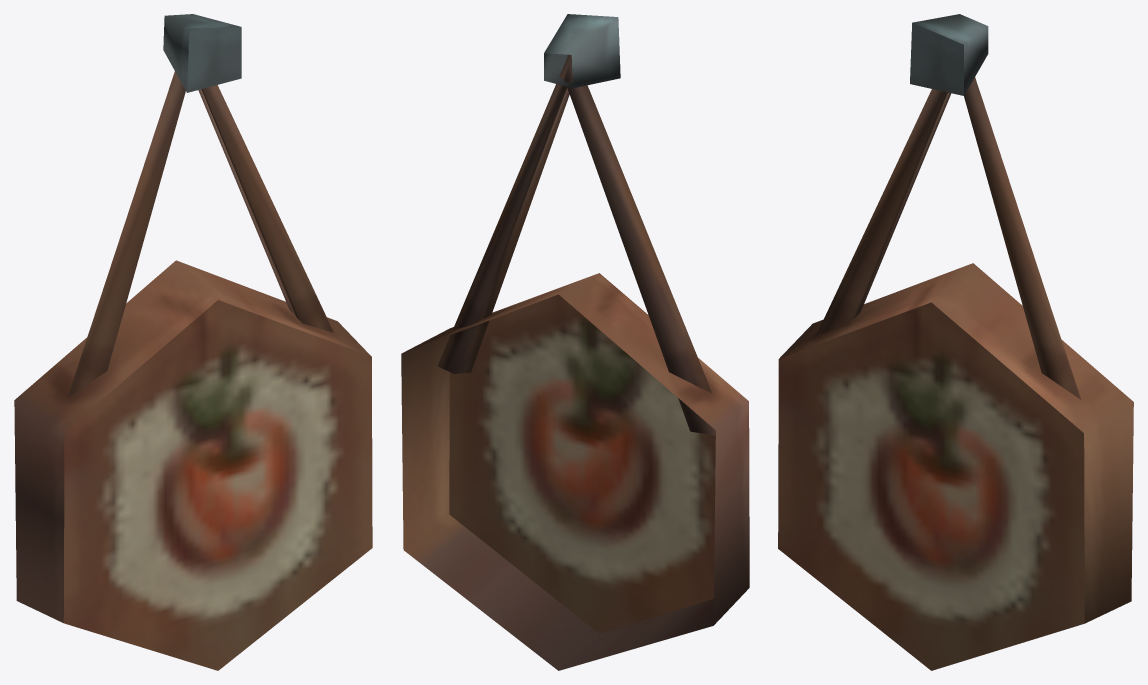
File: furnitureSet_roundPicture_2.FBX
3 renders of one model, left to right at view 1: azimuth 30°, elevation 25°; view 2: azimuth 150°, elevation 25°; view 3: azimuth 330°, elevation 25°, orthographic. The views are drawn at different scales.
Parts seen in each view (by area): view 1: furnitureSet_roundPicture_2; view 2: furnitureSet_roundPicture_2; view 3: furnitureSet_roundPicture_2.
Boxes of the visible parts, box(x1,y1,x2,y2) form: furnitureSet_roundPicture_2: box(14, 14, 372, 670); furnitureSet_roundPicture_2: box(401, 14, 749, 670); furnitureSet_roundPicture_2: box(778, 14, 1133, 670).
Size of the model in its own units: 23.59 by 45.35 by 5.32.
1 material, 1 textured.
